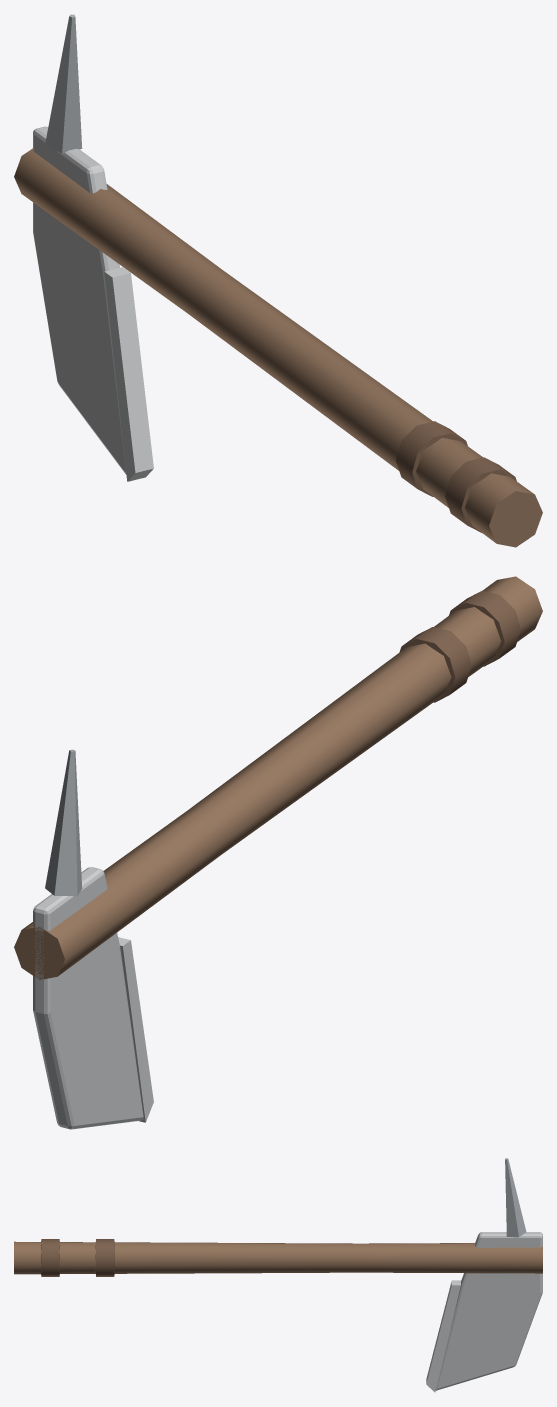
File: boarding_axe.glb
3 renders of one model, top to bottom at view 1: azimuth 30°, elevation 25°; view 2: azimuth 150°, elevation 25°; view 3: azimuth 270°, elevation 25°, orthographic. The views are drawn at different scales.
Parts seen in each view (by area): view 1: boarding_axe; view 2: boarding_axe; view 3: boarding_axe.
Part boxes in pixels (left/top/right/bottom): boarding_axe: left=14, top=14, right=542, bottom=547; boarding_axe: left=14, top=576, right=542, bottom=1129; boarding_axe: left=14, top=1158, right=542, bottom=1392.
Bounding box in the file's own units: 0.042 × 0.2802 × 0.58.
